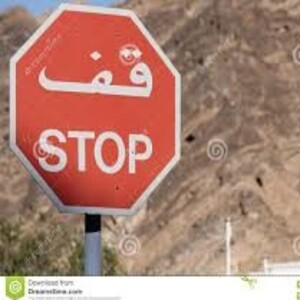stop: (11, 3, 180, 213)
